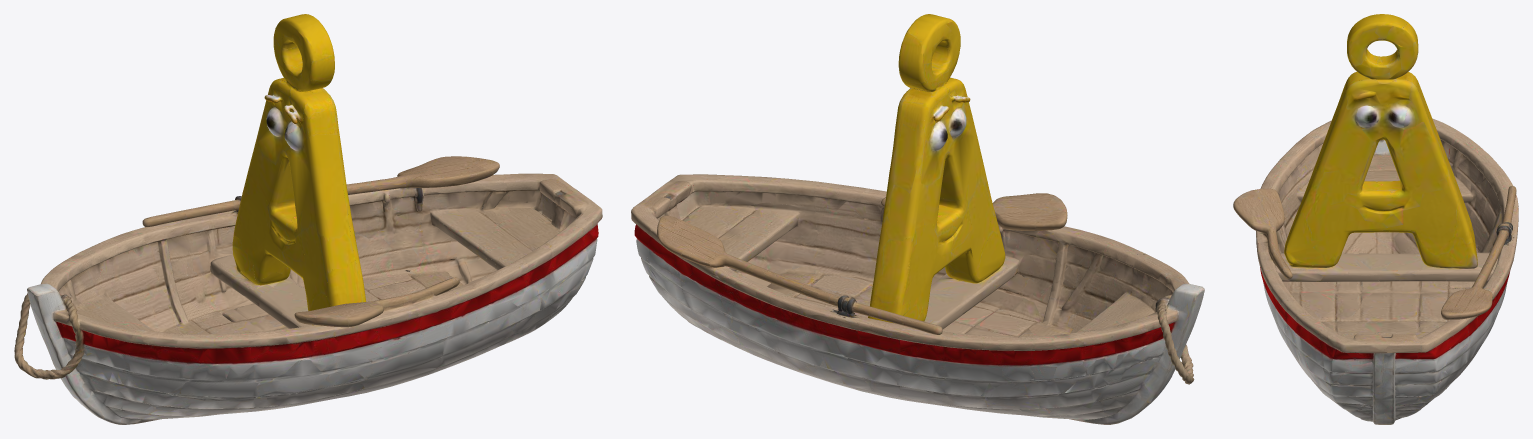
The model's file is boat.glb.
3 views of the same model, side by side, from view 1: azimuth 30°, elevation 25°; view 2: azimuth 150°, elevation 25°; view 3: azimuth 270°, elevation 25° (orthographic). The views are drawn at different scales.
Visible parts, largest first — view 1: Mesh_0; view 2: Mesh_0; view 3: Mesh_0.
Boxes of the visible parts, x1,y1,x2,y2 form: Mesh_0: (14,14,602,424); Mesh_0: (631,14,1204,424); Mesh_0: (1233,14,1518,424).
Size of the model in its own units: 1.9 by 1.2 by 0.9757.
Materials: 1 (1 with a texture image).
